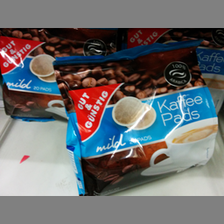coffee: (52, 38, 221, 195)
